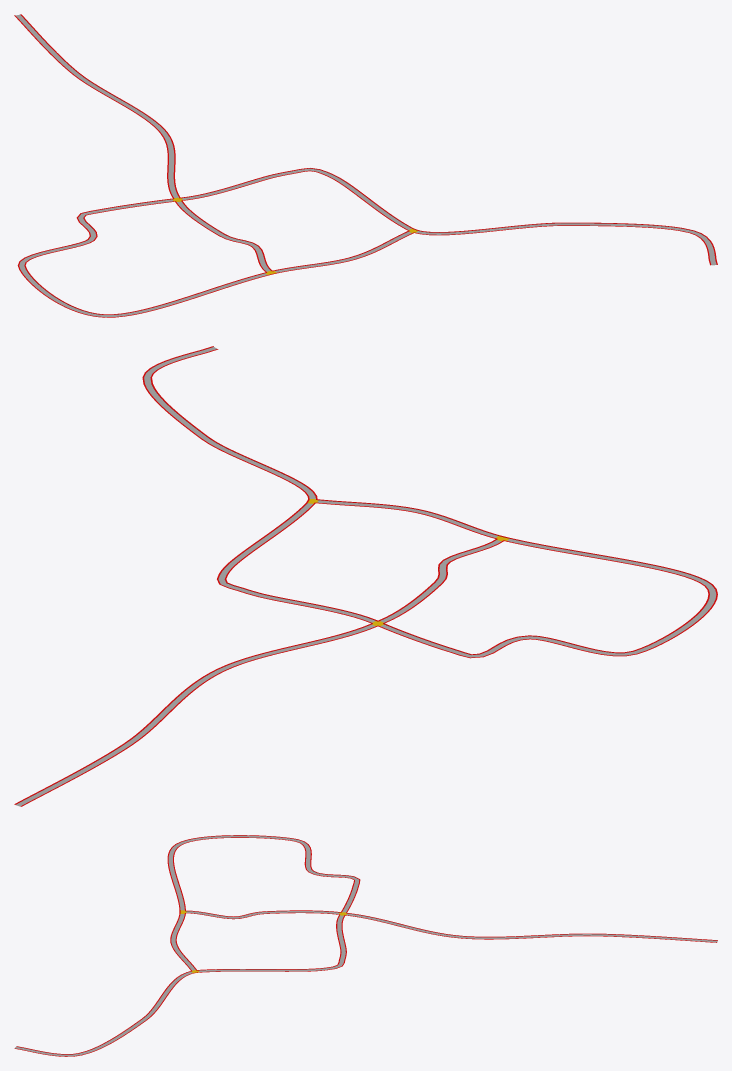
File: Road_Area51.fbx
3 views of the same model, one above another, from view 1: azimuth 30°, elevation 25°; view 2: azimuth 150°, elevation 25°; view 3: azimuth 270°, elevation 25° (orthographic). The views are drawn at different scales.
Visible parts, largest first — view 1: Road; view 2: Road; view 3: Road.
Part boxes in pixels (x1,y1,x2,y2): Road: (14, 14, 717, 317); Road: (14, 346, 717, 806); Road: (14, 835, 717, 1056).
Size of the model in its own units: 724 by 0.459 by 972.
